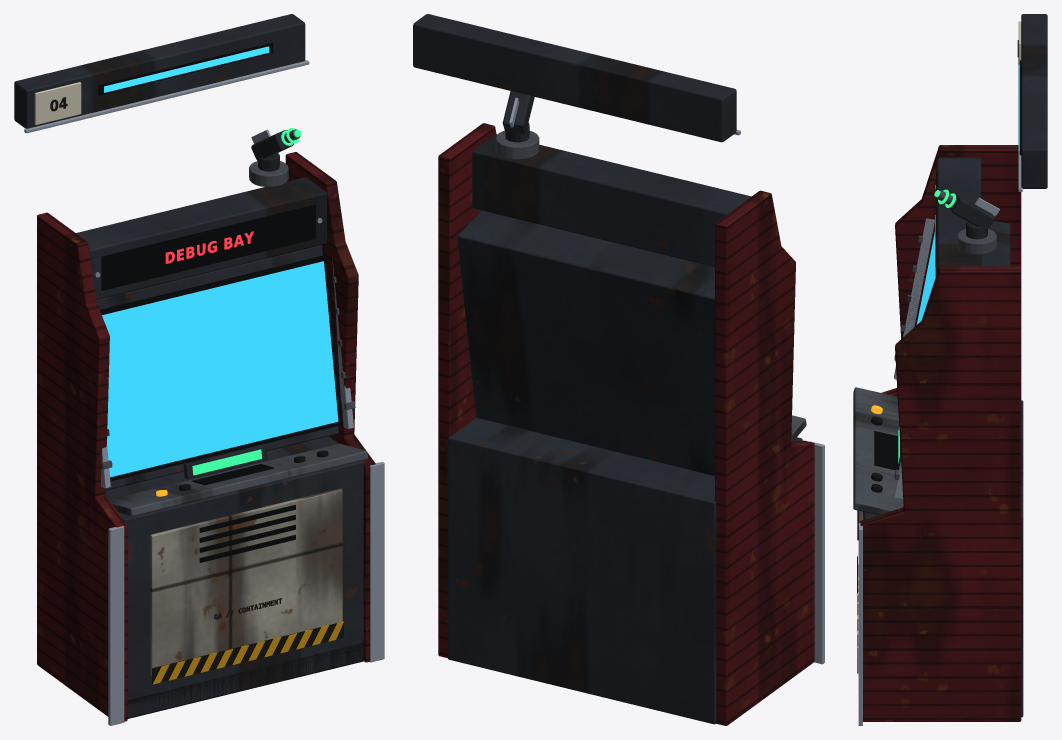
The model's file is ch1-station-4.glb.
The picture shows the model from 3 angles, left to right: view 1: azimuth 30°, elevation 25°; view 2: azimuth 150°, elevation 25°; view 3: azimuth 270°, elevation 25°; orthographic projection. The views are drawn at different scales.
Parts seen in each view (by area): view 1: screen, side_l, body_panel, body, header_plate, mq_frame, side_r, mq_well, deck_top, mon_back, kick, side_trim_l (+14 smaller); view 2: body, mon_back, side_l, mq_frame, header_plate, side_r, side_trim_l, gun_base, gun_body; view 3: side_r, side_l, header_plate, deck_top, mq_frame, rail, body, side_trim_r, mon_back, deck_grille, gun_body, gun_base (+1 smaller).
Boxes of the visible parts, <box> form: screen: <box>102,261,338,477</box>; side_l: <box>37,212,127,721</box>; body_panel: <box>150,488,342,675</box>; body: <box>105,436,364,717</box>; header_plate: <box>14,14,305,128</box>; mq_frame: <box>76,177,327,299</box>; side_r: <box>285,152,375,662</box>; mq_well: <box>101,204,315,290</box>; deck_top: <box>109,443,368,516</box>; mon_back: <box>96,245,338,490</box>; kick: <box>127,642,363,718</box>; side_trim_l: <box>108,526,124,725</box>; body: <box>447,417,802,724</box>; mon_back: <box>457,210,714,475</box>; side_l: <box>715,190,814,725</box>; mq_frame: <box>472,134,751,267</box>; header_plate: <box>413,14,736,142</box>; side_r: <box>438,123,496,657</box>; side_trim_l: <box>809,441,824,664</box>; gun_base: <box>495,130,539,159</box>; gun_body: <box>502,91,534,134</box>; side_r: <box>859,266,1021,721</box>; side_l: <box>863,145,1021,519</box>; header_plate: <box>1021,14,1047,188</box>; deck_top: <box>853,387,903,515</box>; mq_frame: <box>937,157,981,272</box>; rail: <box>894,218,934,379</box>; body: <box>864,400,1023,717</box>; side_trim_r: <box>858,523,862,725</box>; mon_back: <box>981,221,1010,266</box>; deck_grille: <box>874,431,898,470</box>; gun_body: <box>949,193,994,230</box>; gun_base: <box>957,228,996,254</box>.
Bounding box in the file's own units: 1.48 × 2.88 × 0.879.
Materials: 16 (4 with a texture image).
